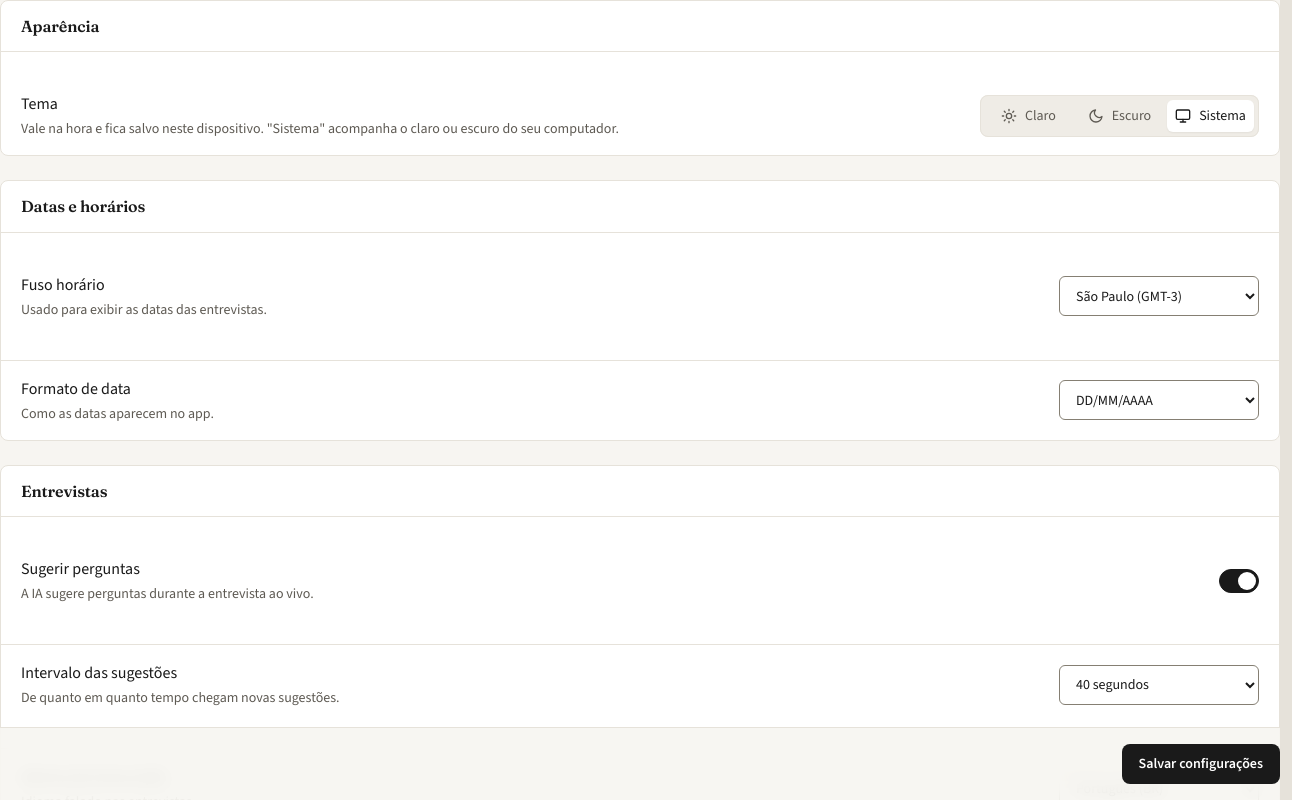
Test: erro ao salvar mostra o detail em toast
The image size is (1292, 800).
Click the button "Salvar configurações" at (1201, 764), box x1=1122 y1=744 x2=1280 y2=784
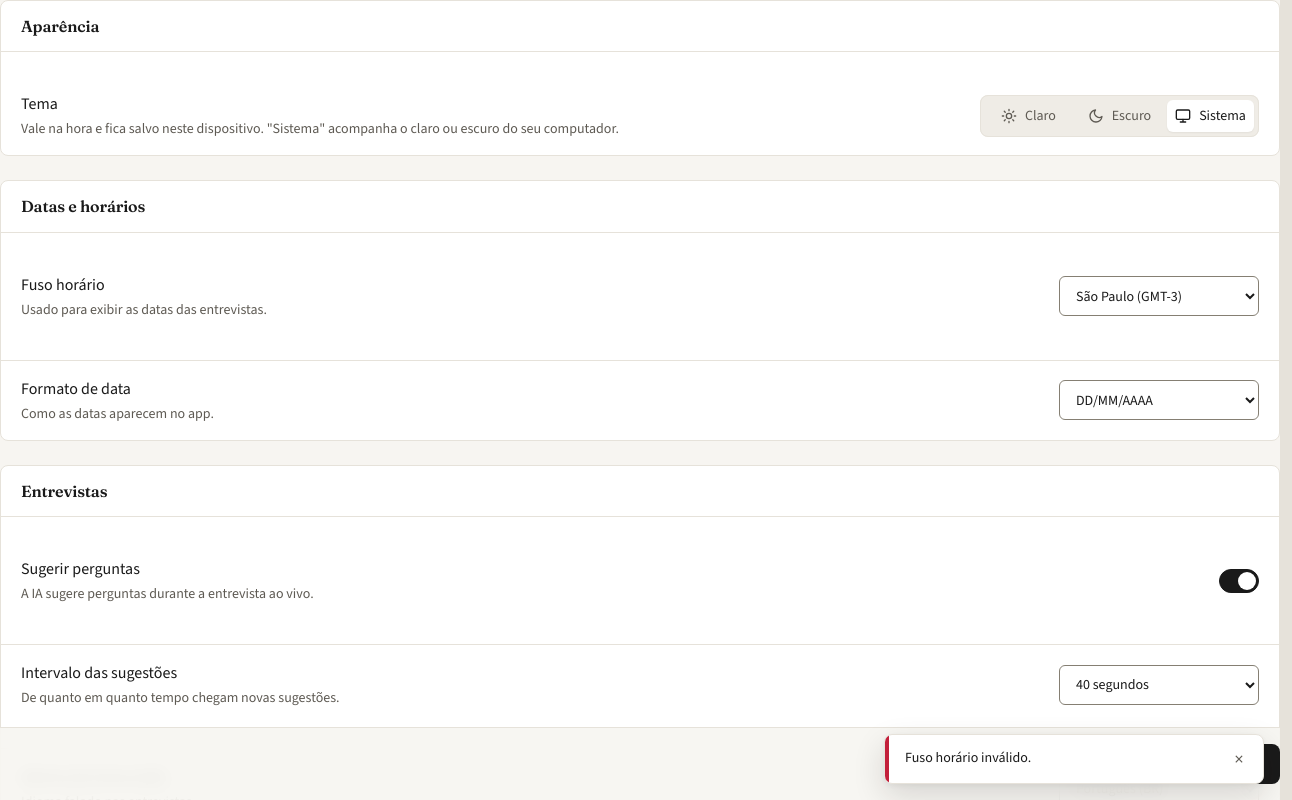
Now the message shows "Fuso horário inválido.", box x1=905 y1=748 x2=1031 y2=767
